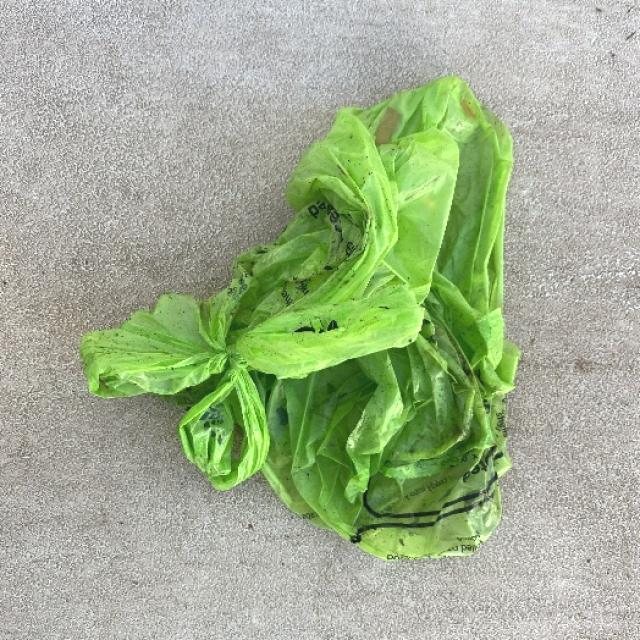inorganic: (78, 293, 231, 397), (284, 107, 396, 227)
